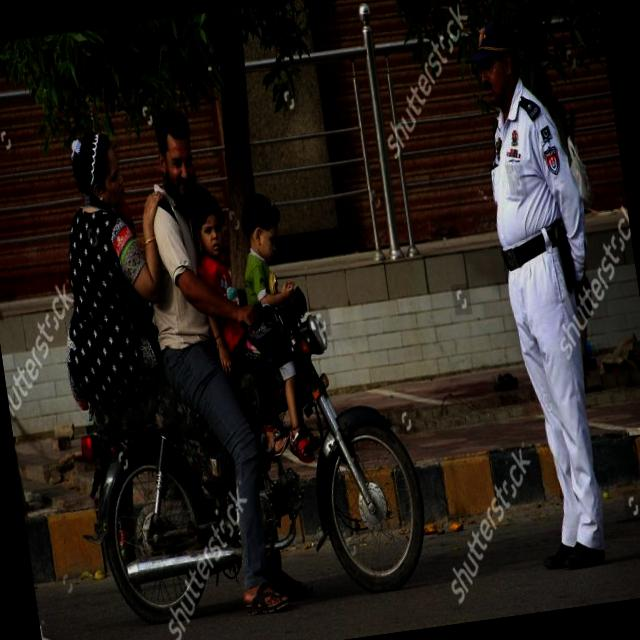motorcycle: (57, 265, 437, 640)
person: (123, 100, 267, 543), (36, 113, 179, 444), (232, 179, 324, 468), (180, 173, 265, 401)
rider_region: (29, 76, 438, 636)
